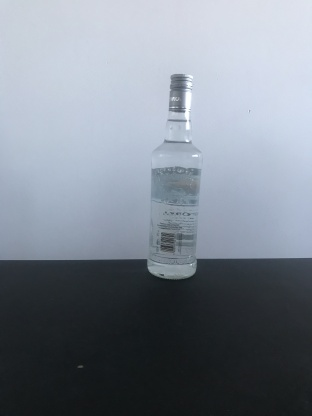nakretka: (167, 72, 194, 113)
